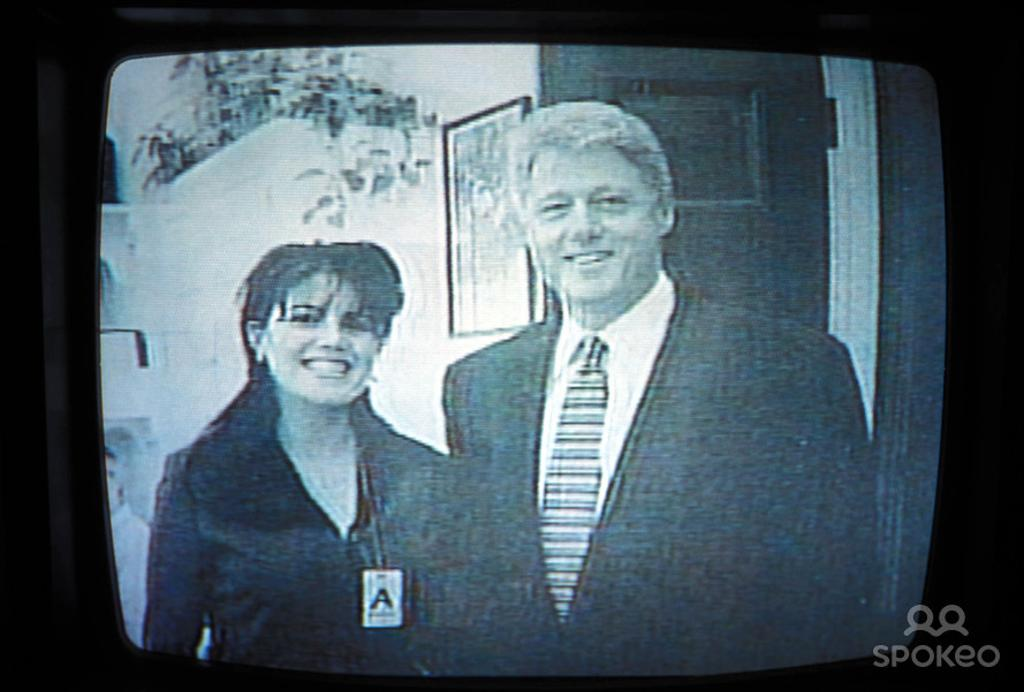face: (536, 142, 646, 294), (278, 268, 384, 400)
